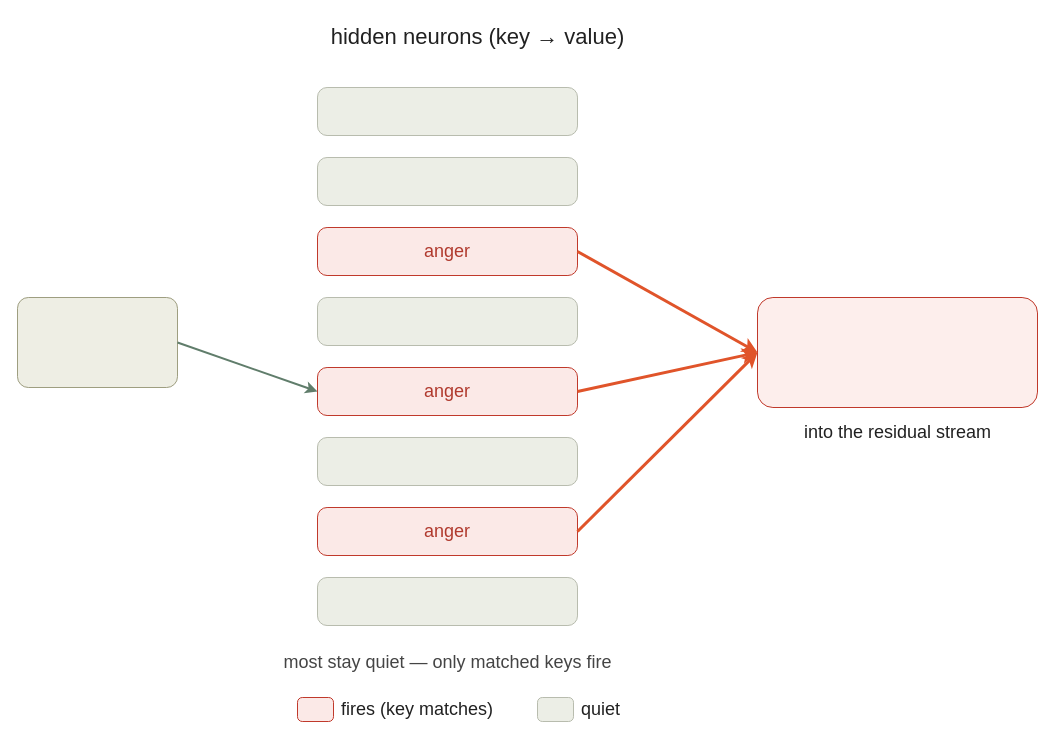
The diagram is 1055 pixels wide and 740 high, and some of its shapes have lost their labels. Each missing label, with the centre of its shape:
aggressive Σ fired values: (897,352)
x context: (97,342)
